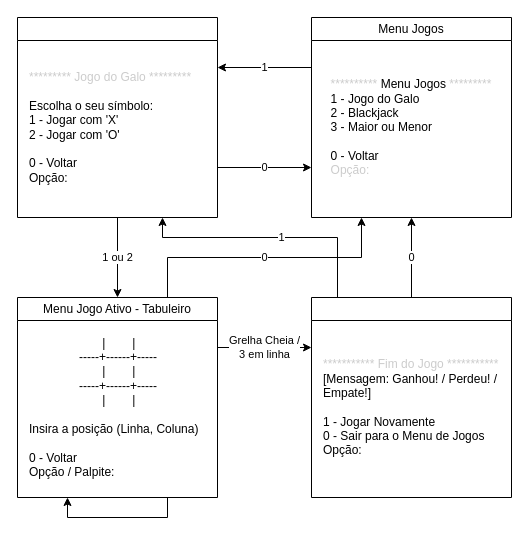
Image size: 529x543. Some labels were removed from this diagram. The box of each missing label's shape, as (x1, y1, x2, y2) in pixels:
Menu Jogo do Galo: (16, 16, 218, 218)
Menu Resultado: (310, 296, 512, 498)
